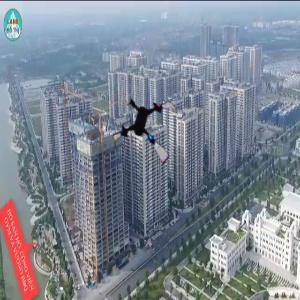drone: (110, 92, 187, 169)
